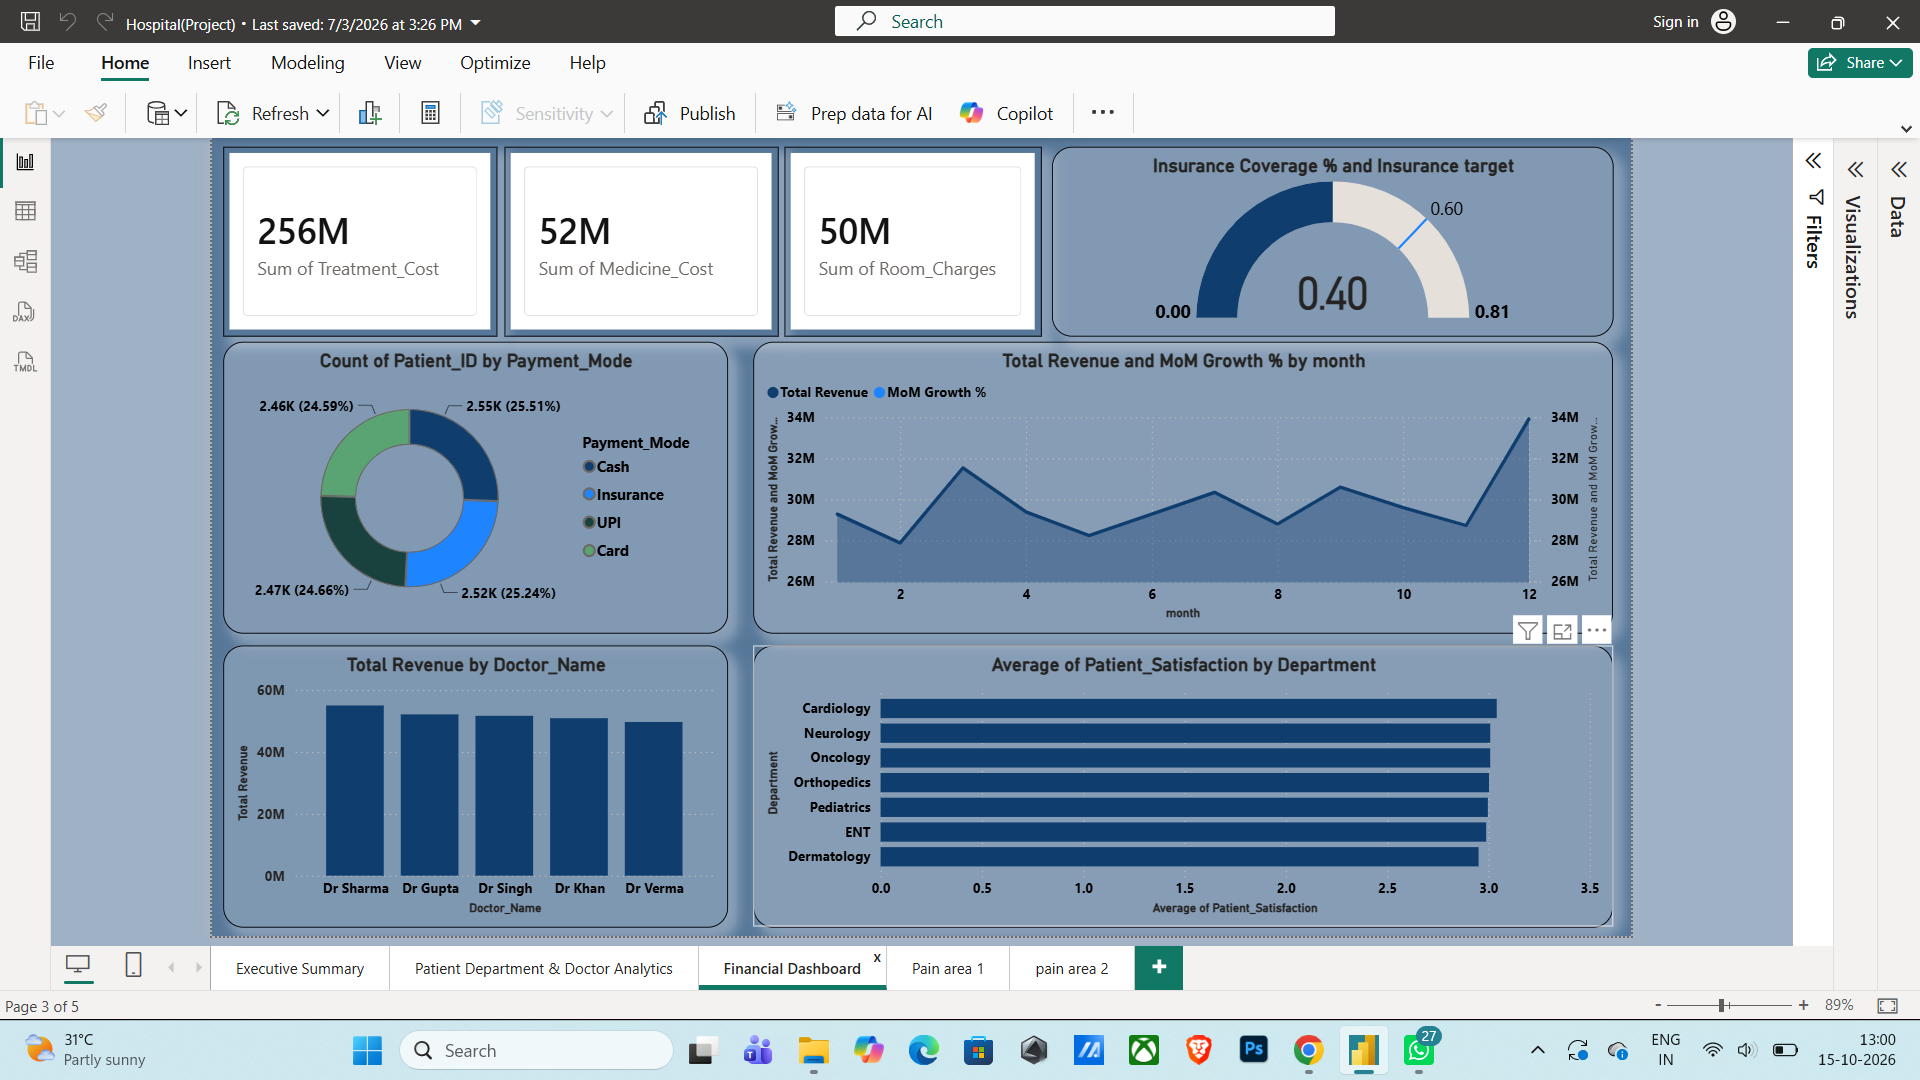

The page's visual inventory and layout, read from the dashboard file:
{"tool":"powerbi","page":{"name":"Financial Dashboard","canvas":[1280,720],"ordinal":2},"visuals":[{"type":"cardVisual","fields":{"Data":["Sum(Hospital_Data.Treatment_Cost)"]},"box":[9.8,7.3,247,171.2],"z":0},{"type":"cardVisual","fields":{"Data":["Sum(Hospital_Data.Medicine_Cost)"]},"box":[264.1,7.3,247,171.2],"z":1000},{"type":"cardVisual","fields":{"Data":["Sum(Hospital_Data.Room_Charges)"]},"box":[516,7.3,232.3,171.2],"z":2000},{"type":"donutChart","fields":{"Category":["Hospital_Data.Payment_Mode"],"Y":["CountNonNull(Hospital_Data.Patient_ID)"]},"box":[9.8,183.4,454.9,262.9],"z":3000},{"type":"gauge","fields":{"TargetValue":["Hospital_Data.Insurance target"],"Y":["Hospital_Data.Insurance Coverage %"]},"box":[756.9,7.3,506.3,171.2],"z":4000},{"type":"lineChart","fields":{"Category":["Hospital_Data.month"],"Y":["Hospital_Data.Total Revenue"],"Y2":["Hospital_Data.MoM Growth %"]},"box":[487.9,183.4,775.3,262.9],"z":5000},{"type":"clusteredColumnChart","fields":{"Category":["Hospital_Data.Doctor_Name"],"Y":["Hospital_Data.Total Revenue"]},"box":[9.8,457.3,454.9,254.3],"z":6000},{"type":"barChart","fields":{"Category":["Hospital_Data.Department"],"Y":["Avg(Hospital_Data.Patient_Satisfaction)"]},"box":[487.9,457.3,775.3,254.3],"z":7000}]}

Visuals, with their boxes on the page's 1280x720 design canvas (x1, y1, x2, y2). These are canvas units, not pixel positions in the 1920x1080 screenshot, which may show the page scaled, cropped or inside an application window:
cardVisual - Sum(Hospital_Data.Treatment_Cost): bbox(10, 7, 257, 178)
cardVisual - Sum(Hospital_Data.Medicine_Cost): bbox(264, 7, 511, 178)
cardVisual - Sum(Hospital_Data.Room_Charges): bbox(516, 7, 748, 178)
donutChart - Hospital_Data.Payment_Mode x CountNonNull(Hospital_Data.Patient_ID): bbox(10, 183, 465, 446)
gauge - Hospital_Data.Insurance target x Hospital_Data.Insurance Coverage %: bbox(757, 7, 1263, 178)
lineChart - Hospital_Data.month x Hospital_Data.Total Revenue: bbox(488, 183, 1263, 446)
clusteredColumnChart - Hospital_Data.Doctor_Name x Hospital_Data.Total Revenue: bbox(10, 457, 465, 712)
barChart - Hospital_Data.Department x Avg(Hospital_Data.Patient_Satisfaction): bbox(488, 457, 1263, 712)
